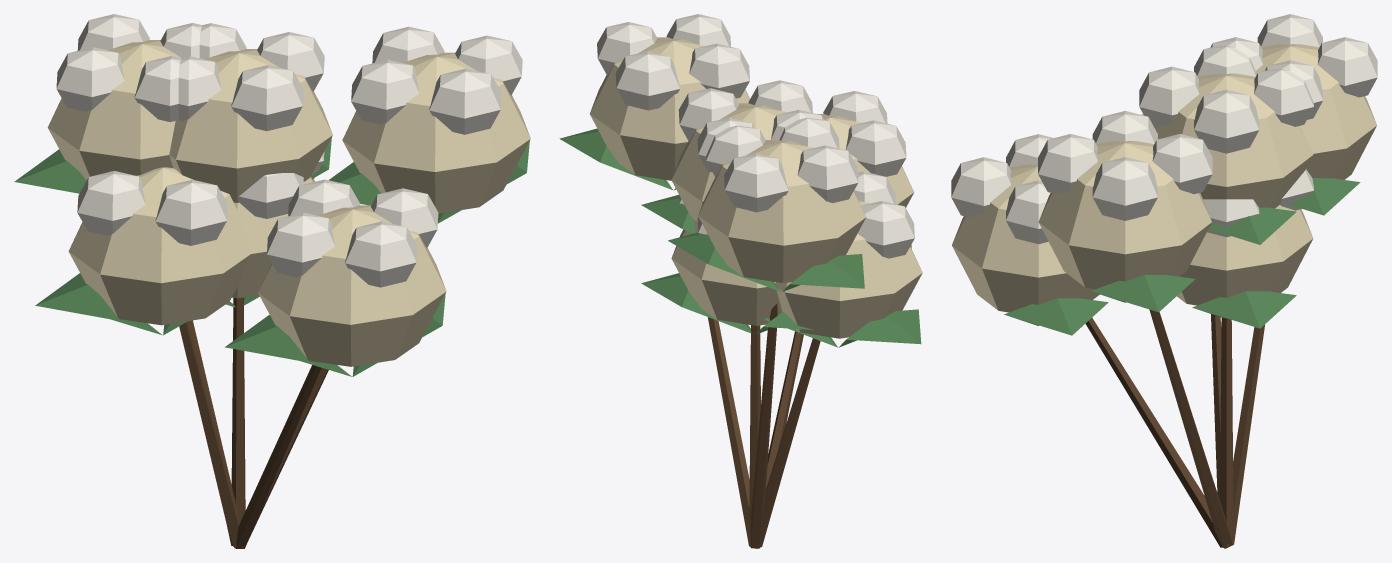
Rendered from b08_hydrangea.glb.
3 renders of one model, left to right at view 1: azimuth 30°, elevation 25°; view 2: azimuth 150°, elevation 25°; view 3: azimuth 270°, elevation 25°, orthographic. The views are drawn at different scales.
Parts seen in each view (by area): view 1: b08_hydrangea; view 2: b08_hydrangea; view 3: b08_hydrangea.
Boxes of the visible parts, x1,y1,x2,y2 form: b08_hydrangea: (14, 14, 530, 548); b08_hydrangea: (559, 14, 922, 548); b08_hydrangea: (951, 14, 1377, 548).
Size of the model in its own units: 1.18 by 1.25 by 1.02.
